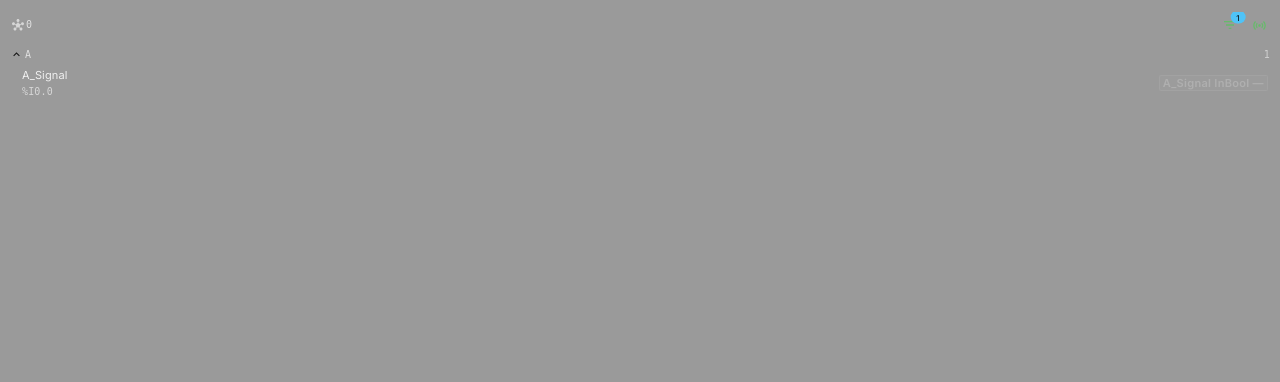
Test case: SignalListView topic collapse while filtering › T4 re-opens matching topics after a deliberate criteria change
Expected: the text "A_Signal" is shown, [22, 68, 68, 82]
Click the element showing "A 1" at coordinates (16, 54), box [10, 48, 1270, 60]
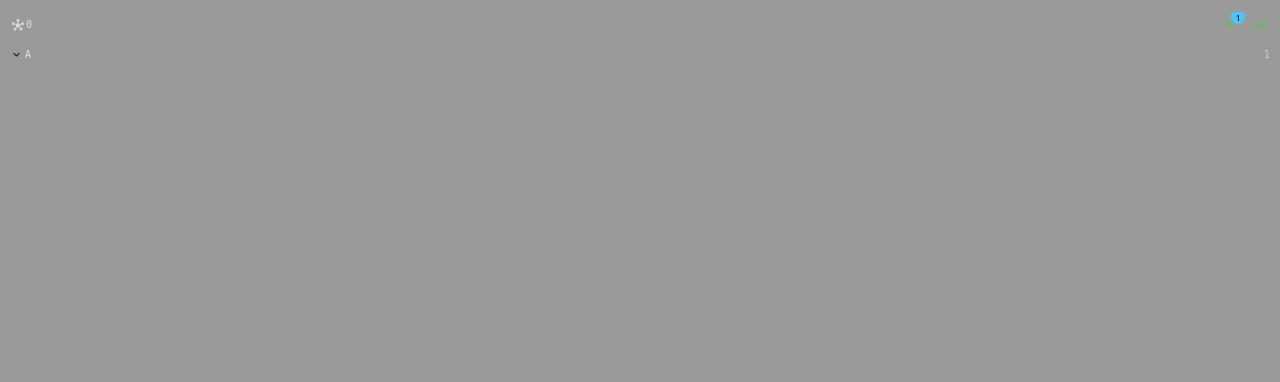
Expected: the text "A_Signal" is gone
Click the button named "Filter signals" at coordinates (1230, 25), box [1217, 12, 1243, 38]
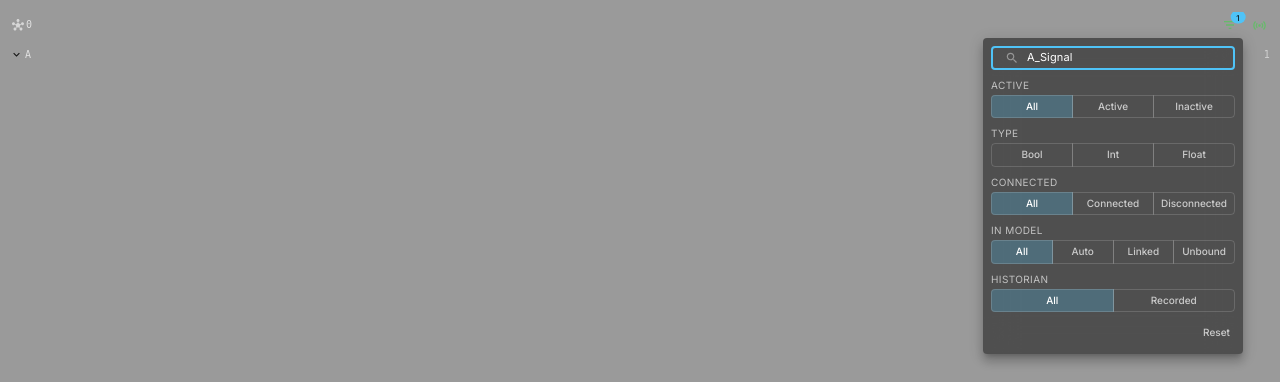
Replace the text in the field with placeholder "Filter signals..." with "Signal" at coordinates (1131, 58), box [1027, 46, 1235, 70]
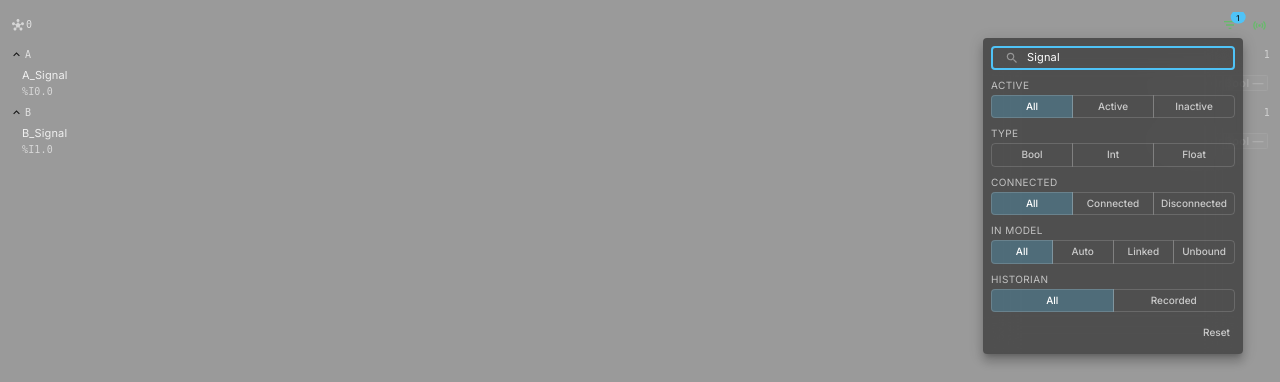
Expected: the text "A_Signal" is shown, [22, 68, 68, 82]
Expected: the text "B_Signal" is shown, [22, 126, 67, 140]
Expected: the 1st icon with test id "ExpandLessIcon" is shown, [10, 48, 23, 60]
